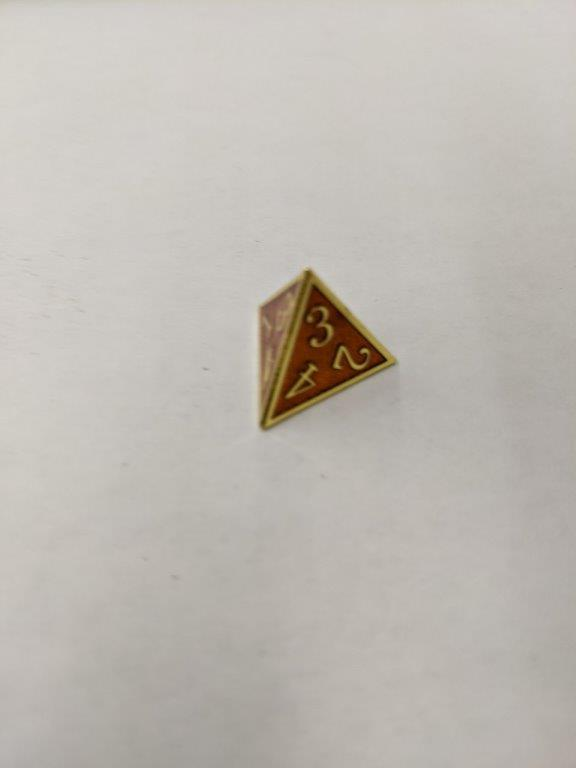d4-3: (247, 267, 397, 428)
